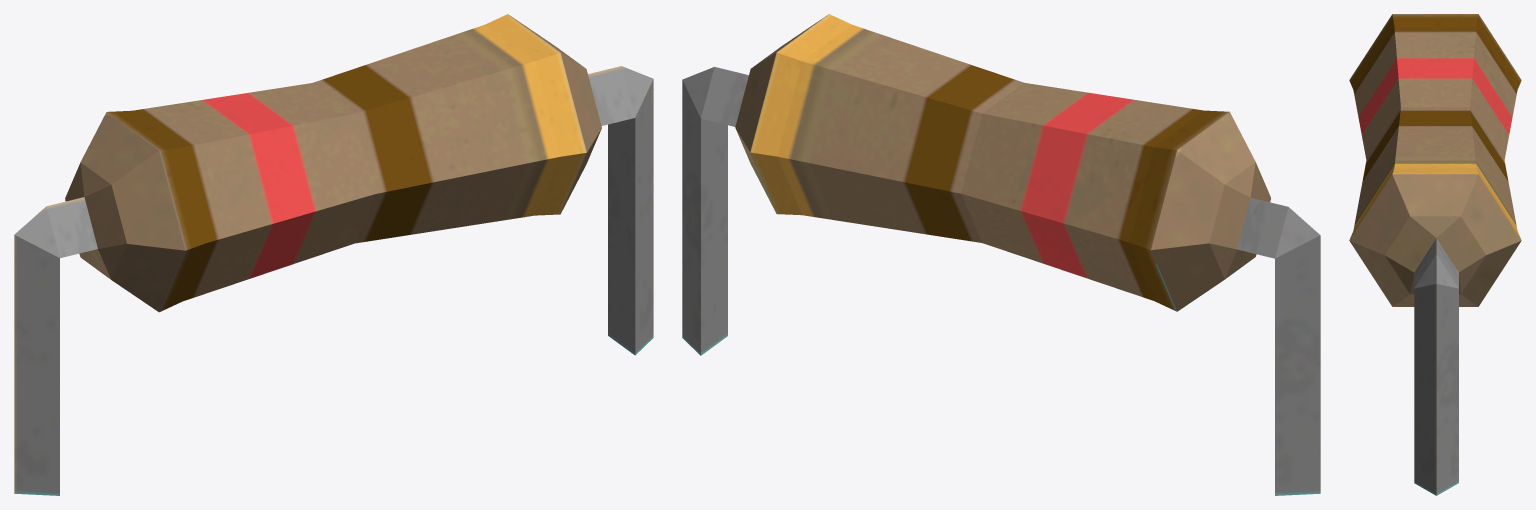
Rendered from Resistor.obj.
3 views of the same model, side by side, from view 1: azimuth 30°, elevation 25°; view 2: azimuth 150°, elevation 25°; view 3: azimuth 270°, elevation 25° (orthographic). The views are drawn at different scales.
Parts seen in each view (by area): view 1: Resistor_Sphere.002; view 2: Resistor_Sphere.002; view 3: Resistor_Sphere.002.
Boxes of the visible parts, x1=… form: Resistor_Sphere.002: x1=14, y1=14, x2=653, y2=495; Resistor_Sphere.002: x1=682, y1=14, x2=1320, y2=495; Resistor_Sphere.002: x1=1349, y1=14, x2=1521, y2=495.
Bounding box in the file's own units: 0.883 × 0.4412 × 0.252.
Materials: 1 (1 with a texture image).
